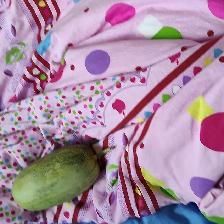gua: (12, 161, 95, 200)
